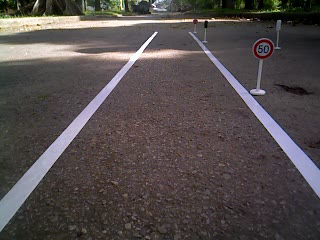limit 50: (251, 35, 277, 63)
